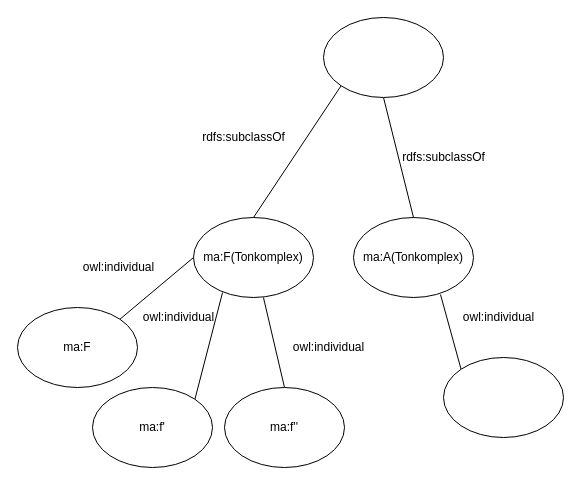
Some shapes in this 581 by 485 pixel diagram are drawn without their labels. Each missing label, with the centre of its shape:
"ma:a'" goes at (503,397).
"ma:Ton" goes at (383,57).
